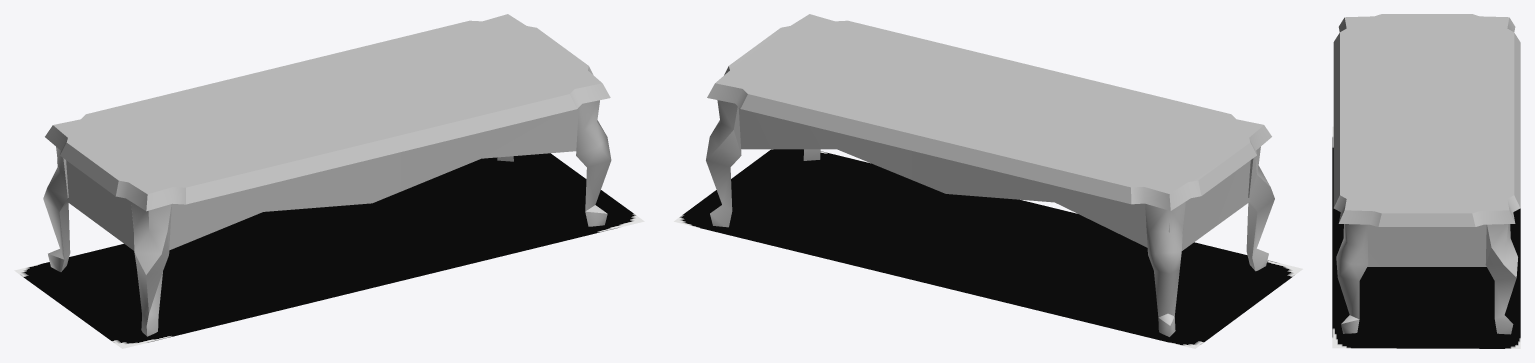
Rendered from jj_ty_chaji01.FBX.
The picture shows the model from 3 angles, left to right: view 1: azimuth 30°, elevation 25°; view 2: azimuth 150°, elevation 25°; view 3: azimuth 270°, elevation 25°; orthographic projection. The views are drawn at different scales.
Visible parts, largest first — view 1: jj_ty_chaji01, shadow; view 2: jj_ty_chaji01, shadow; view 3: jj_ty_chaji01, shadow.
Boxes of the visible parts, <box> form: jj_ty_chaji01: <box>43,14,611,336</box>; shadow: <box>14,153,644,348</box>; jj_ty_chaji01: <box>706,14,1274,336</box>; shadow: <box>674,149,1302,348</box>; jj_ty_chaji01: <box>1333,14,1520,334</box>; shadow: <box>1332,126,1520,348</box>.
Bounding box in the file's own units: 261 × 68.91 × 93.69.
